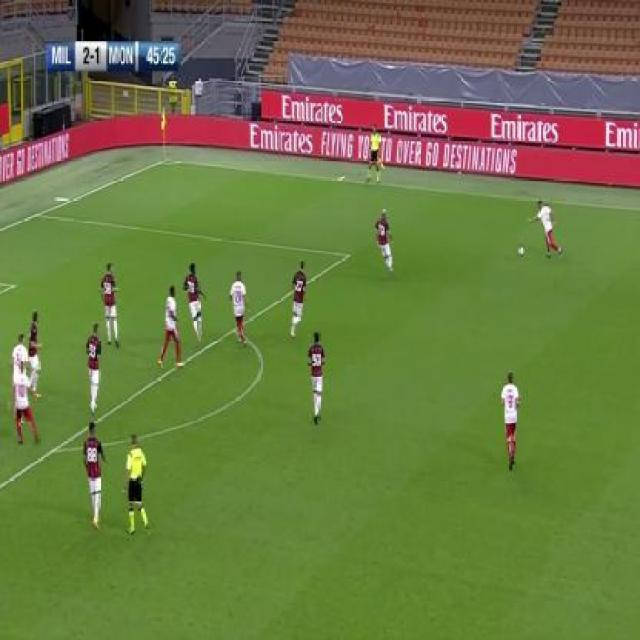ball: (518, 243, 526, 257)
player: (123, 431, 152, 539), (83, 418, 108, 532), (156, 286, 184, 372), (527, 198, 564, 260), (13, 359, 39, 447), (500, 368, 522, 470), (99, 260, 121, 351), (307, 328, 327, 427), (183, 262, 208, 341), (288, 257, 310, 342), (229, 270, 251, 349), (86, 319, 103, 416), (375, 206, 397, 277), (28, 309, 44, 403), (365, 122, 384, 187), (12, 332, 29, 366)
